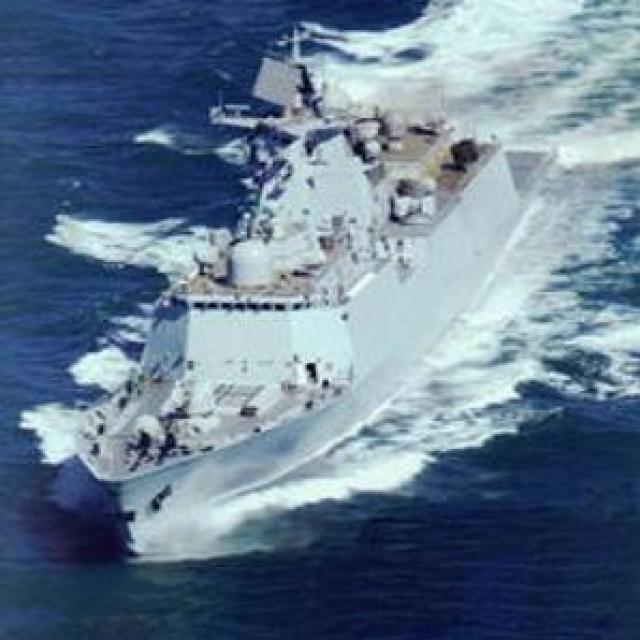navalvessels: (44, 48, 571, 546)
